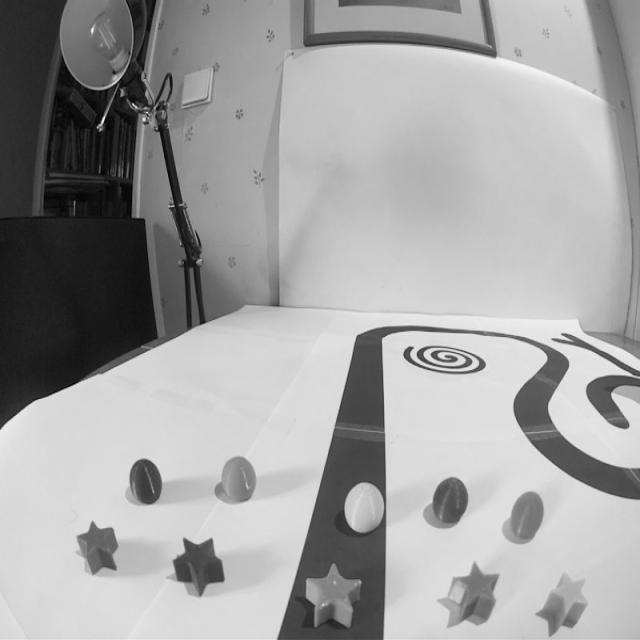ball: (343, 481, 385, 534), (509, 490, 545, 541), (432, 477, 469, 525), (220, 456, 256, 504), (128, 458, 162, 504)
lineStraight: (276, 446, 400, 638)
nest: (405, 342, 487, 374)
star: (304, 562, 362, 631), (443, 561, 500, 626), (171, 536, 224, 597), (544, 570, 588, 636), (76, 520, 120, 574)
